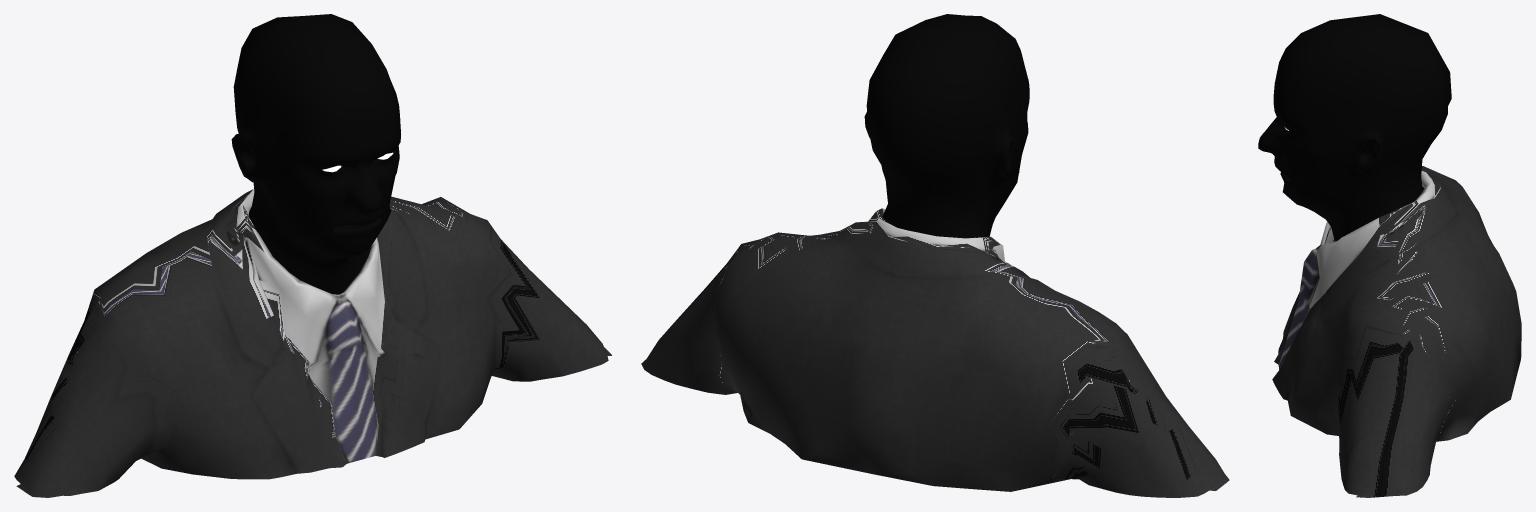
Rendered from watcher.glb.
3 views of the same model, side by side, from view 1: azimuth 30°, elevation 25°; view 2: azimuth 150°, elevation 25°; view 3: azimuth 270°, elevation 25° (orthographic). The views are drawn at different scales.
Visible parts, largest first — view 1: watcher_male_elegantsuit, watcher_body; view 2: watcher_male_elegantsuit, watcher_body; view 3: watcher_male_elegantsuit, watcher_body.
Boxes of the visible parts, bbox=[...] form: watcher_male_elegantsuit: bbox=[14, 189, 611, 497]; watcher_body: bbox=[231, 14, 400, 294]; watcher_male_elegantsuit: bbox=[641, 208, 1229, 497]; watcher_body: bbox=[864, 14, 1029, 238]; watcher_male_elegantsuit: bbox=[1272, 166, 1521, 497]; watcher_body: bbox=[1258, 14, 1451, 241].
Bounding box in the file's own units: 0.6687 × 0.4396 × 0.2994.
Materials: 3 (1 with a texture image).
